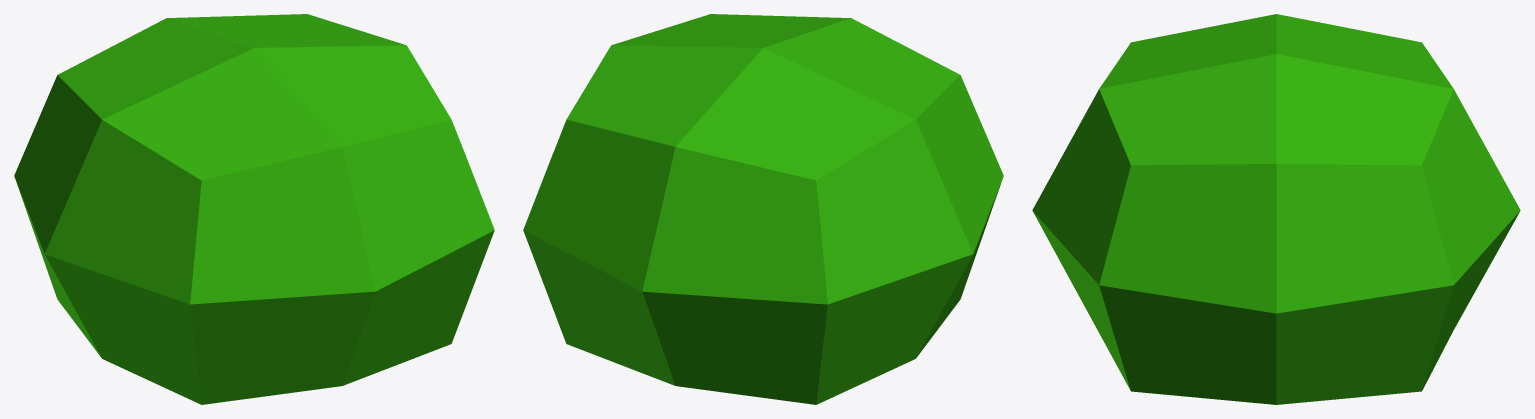
The model's file is Bush.fbx.
The picture shows the model from 3 angles, left to right: view 1: azimuth 30°, elevation 25°; view 2: azimuth 150°, elevation 25°; view 3: azimuth 270°, elevation 25°; orthographic projection.
Visible parts, largest first — view 1: Cube.016; view 2: Cube.016; view 3: Cube.016.
Boxes of the visible parts, <box> form: Cube.016: <box>14,14,494,404</box>; Cube.016: <box>523,14,1003,404</box>; Cube.016: <box>1032,14,1520,404</box>.
Size of the model in its own units: 34.05 by 21.22 by 34.05.
